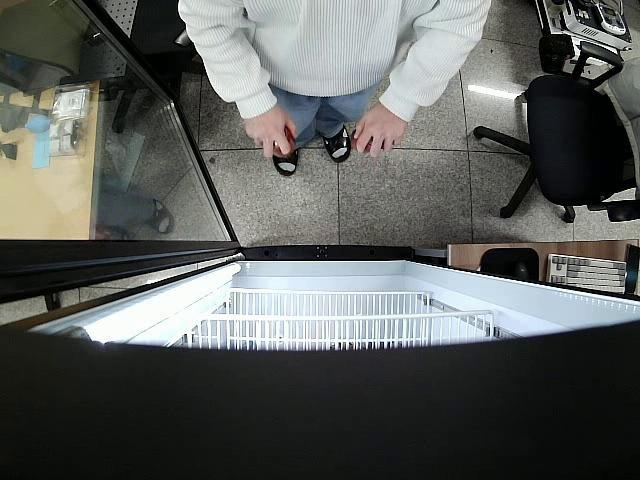11_cocaColaZero: (350, 128, 395, 153), (272, 127, 298, 158)
